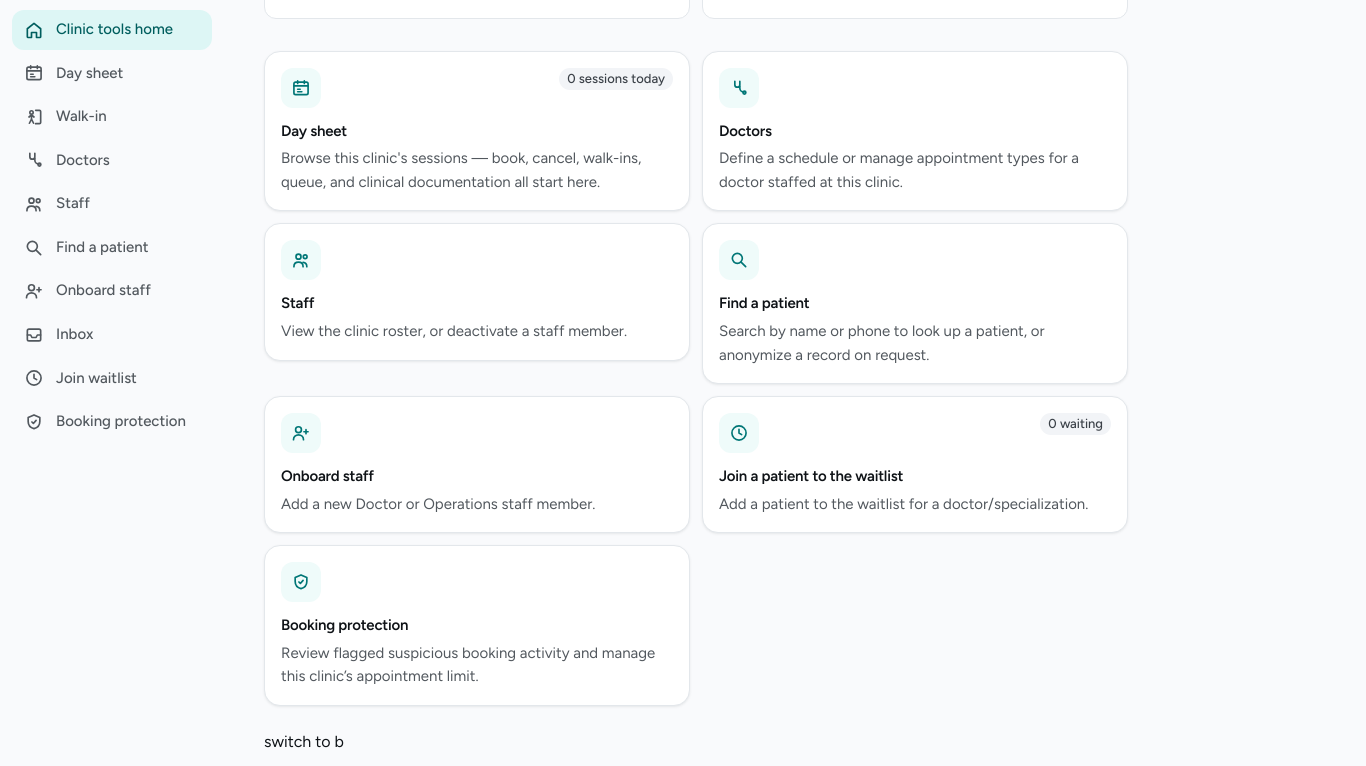
role-aware clinic tools › switching clinics uses the new clinic's roles, never the old clinic's
(page scrolled)
Expected: the heading "Onboard staff" is shown, x1=281 y1=467 x2=374 y2=485
Click the link "switch to b". click: (304, 741)
box: x1=264 y1=732 x2=344 y2=751
(page scrolled)
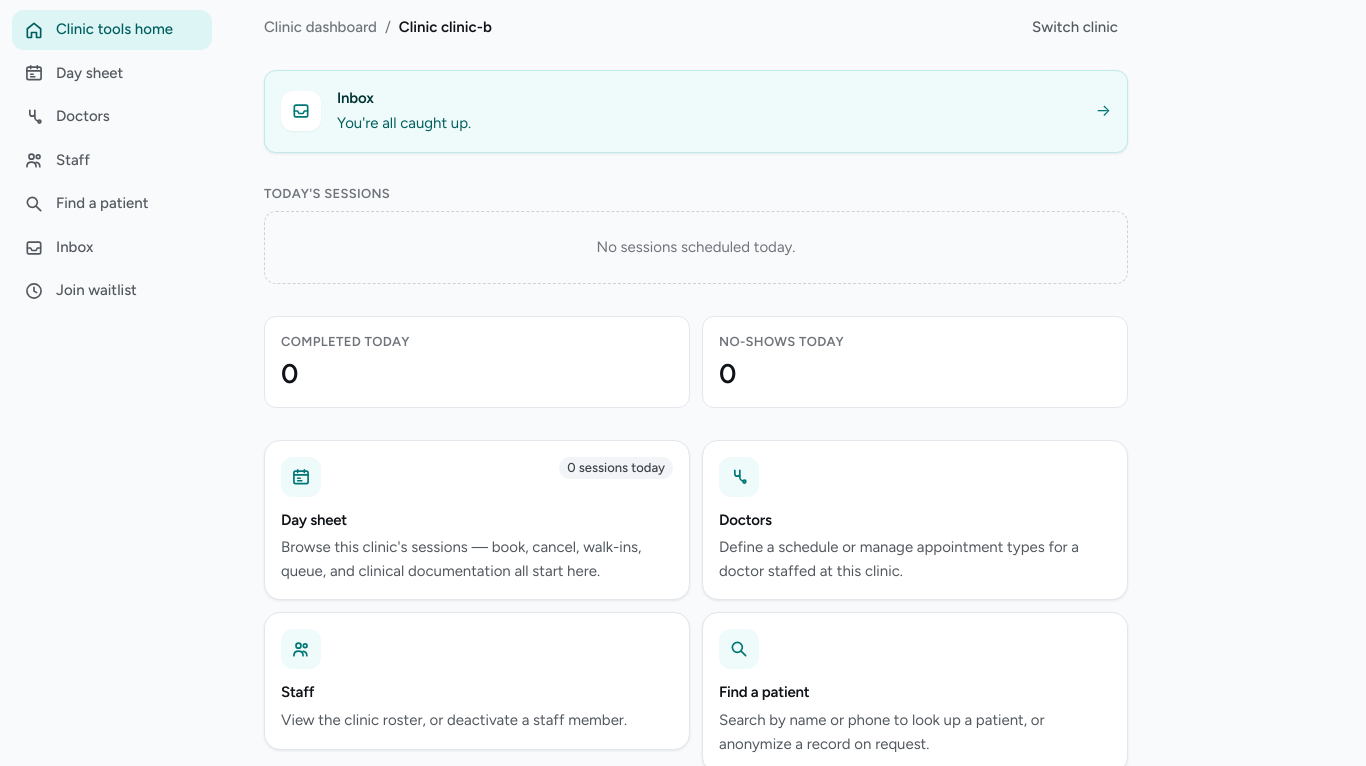
Result: the text "Clinic clinic-b" is shown at x1=399 y1=16 x2=492 y2=40
Result: the link "Onboard staff" is gone
Result: the link "Booking protection" is gone
